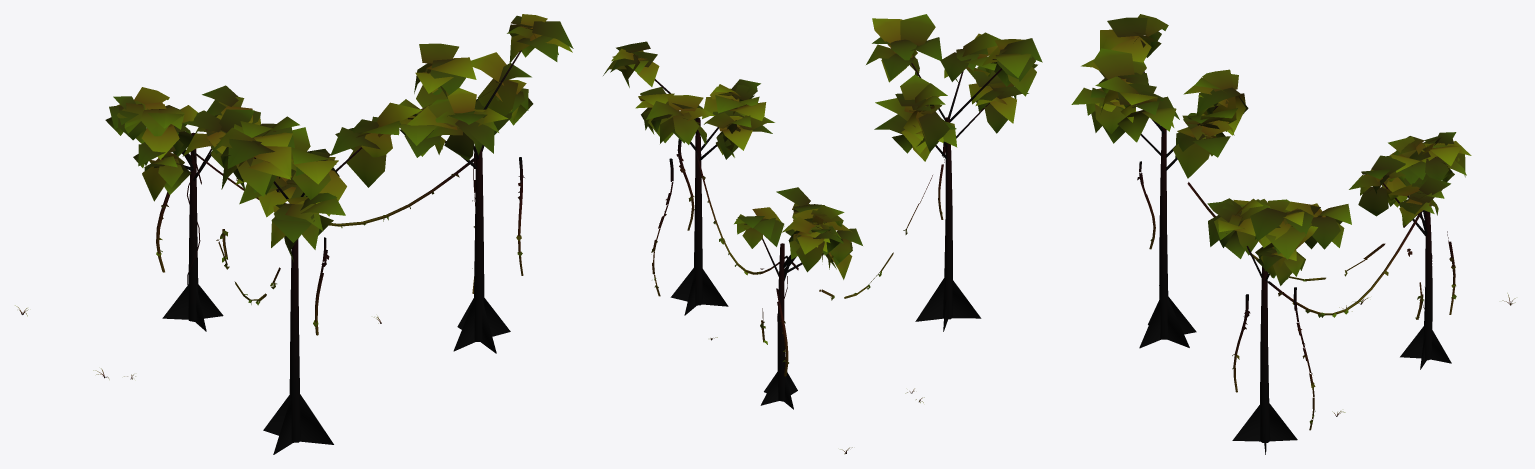
The model's file is patch_trail_far.glb.
3 renders of one model, left to right at view 1: azimuth 30°, elevation 25°; view 2: azimuth 150°, elevation 25°; view 3: azimuth 270°, elevation 25°, orthographic. The views are drawn at different scales.
Parts seen in each view (by area): view 1: patch_trail_far; view 2: patch_trail_far; view 3: patch_trail_far.
Boxes of the visible parts, x1,y1,x2,y2 form: patch_trail_far: [15, 14, 573, 454]; patch_trail_far: [603, 14, 1042, 454]; patch_trail_far: [1071, 14, 1515, 454].
Bounding box in the file's own units: 17.24 × 12.47 × 17.61.
1 material, 1 textured.
